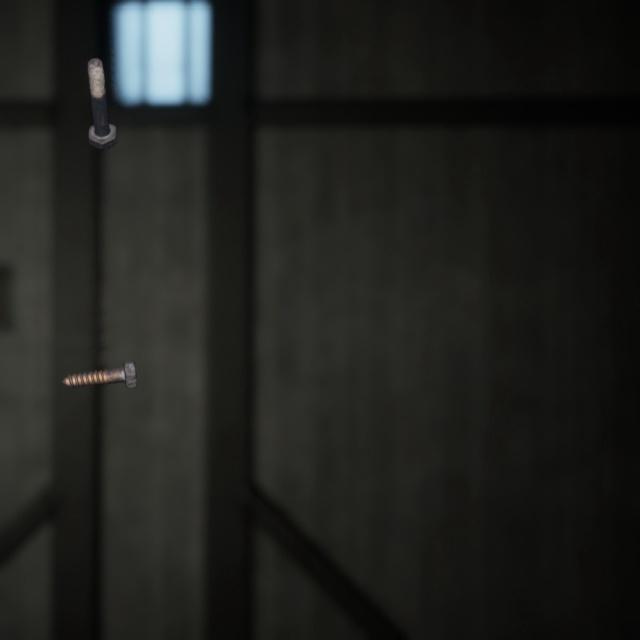bolt: (83, 42, 121, 142), (57, 337, 141, 373)
